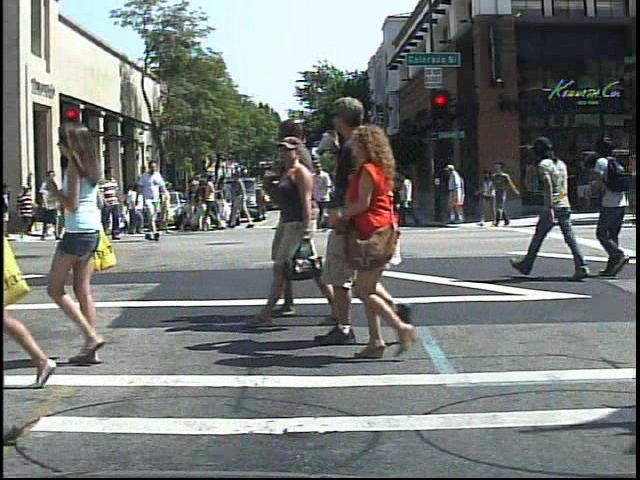person: (299, 89, 423, 346), (41, 116, 140, 374), (340, 117, 440, 360), (528, 128, 584, 283), (584, 129, 638, 286), (6, 133, 29, 393), (136, 160, 169, 243), (95, 162, 125, 240), (446, 162, 469, 226), (15, 182, 38, 243), (46, 167, 57, 247), (92, 182, 112, 220)
